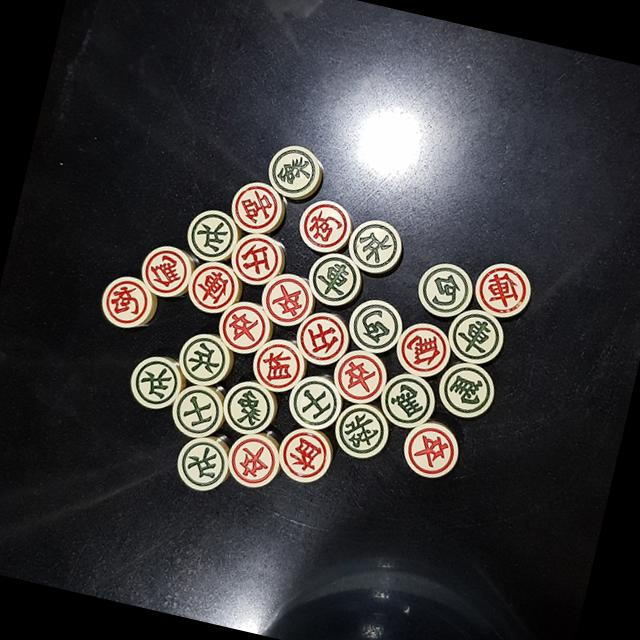black-advisor: (292, 378, 341, 427), (173, 386, 220, 436)
black-cannon: (418, 262, 471, 316), (349, 297, 400, 353)
black-chariot: (307, 256, 356, 306), (449, 312, 496, 361)
black-elephant: (266, 144, 322, 196), (225, 384, 271, 433)
black-general: (336, 404, 388, 458)
black-horse: (440, 366, 491, 414), (382, 377, 428, 425)
black-soldier: (126, 354, 184, 411), (348, 216, 401, 272), (174, 438, 228, 492), (180, 333, 230, 385), (186, 210, 237, 260)
red-advisor: (298, 312, 344, 361), (234, 232, 278, 282)
red-cannon: (300, 200, 352, 252), (100, 276, 150, 326)
red-chariot: (476, 261, 531, 315), (190, 264, 236, 310)
red-elephant: (281, 431, 327, 478), (257, 343, 302, 388)
red-general: (232, 181, 280, 231)
red-horse: (398, 324, 444, 371), (142, 246, 186, 292)
red-soldier: (334, 351, 384, 401), (404, 426, 454, 474), (230, 437, 273, 484), (266, 277, 309, 322), (223, 304, 262, 350)
